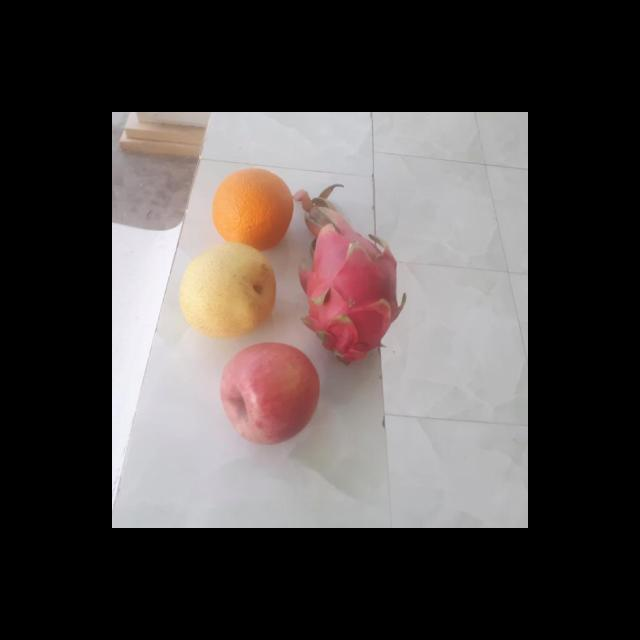apple: (217, 342, 321, 443)
orange: (209, 169, 292, 250)
pear: (173, 243, 278, 339)
pitaya: (294, 215, 405, 362)
